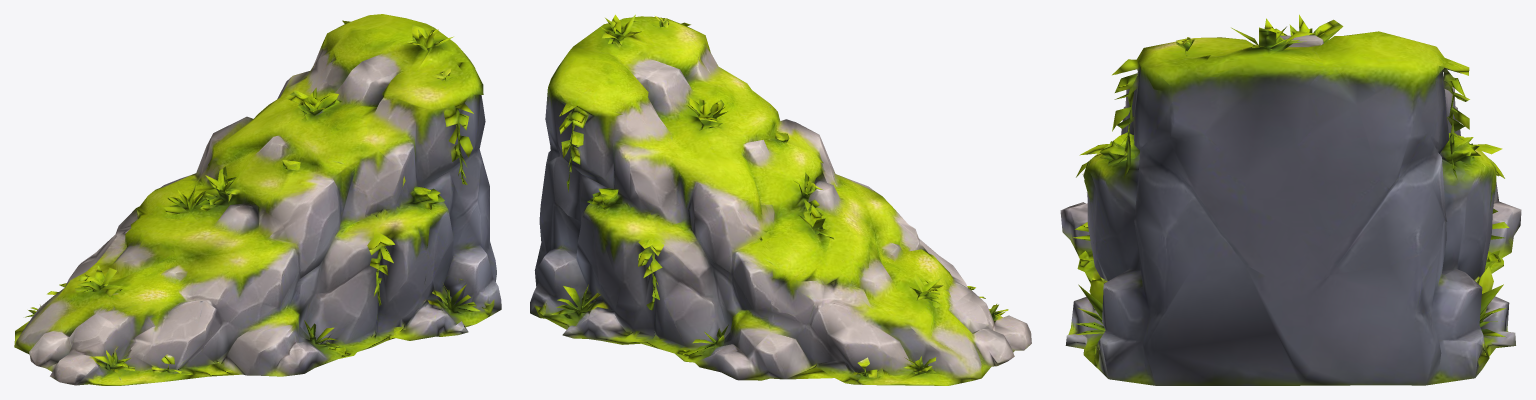
3 views of the same model, side by side, from view 1: azimuth 30°, elevation 25°; view 2: azimuth 150°, elevation 25°; view 3: azimuth 270°, elevation 25° (orthographic). The views are drawn at different scales.
Parts seen in each view (by area): view 1: prop; view 2: prop; view 3: prop.
Boxes of the visible parts, bbox=[...] form: prop: bbox=[14, 14, 501, 385]; prop: bbox=[530, 14, 1031, 385]; prop: bbox=[1060, 14, 1521, 385].
Bounding box in the file's own units: 1.79 × 0.9947 × 1.2.
1 material, 1 textured.
